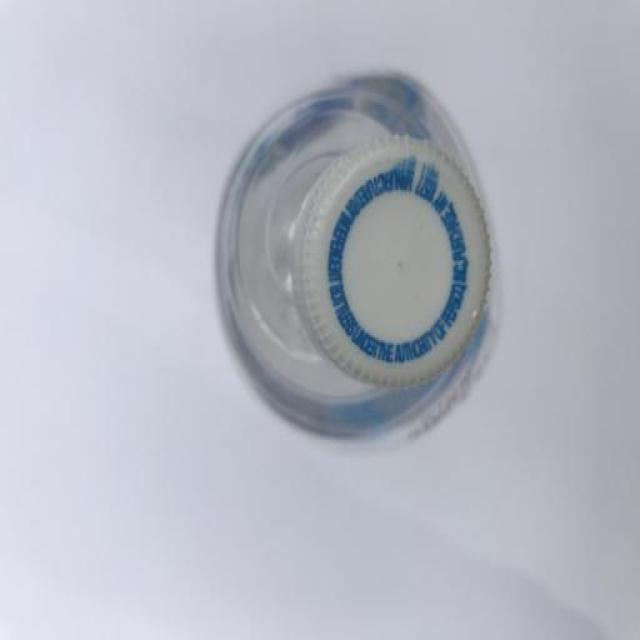bottle: (205, 54, 506, 456)
